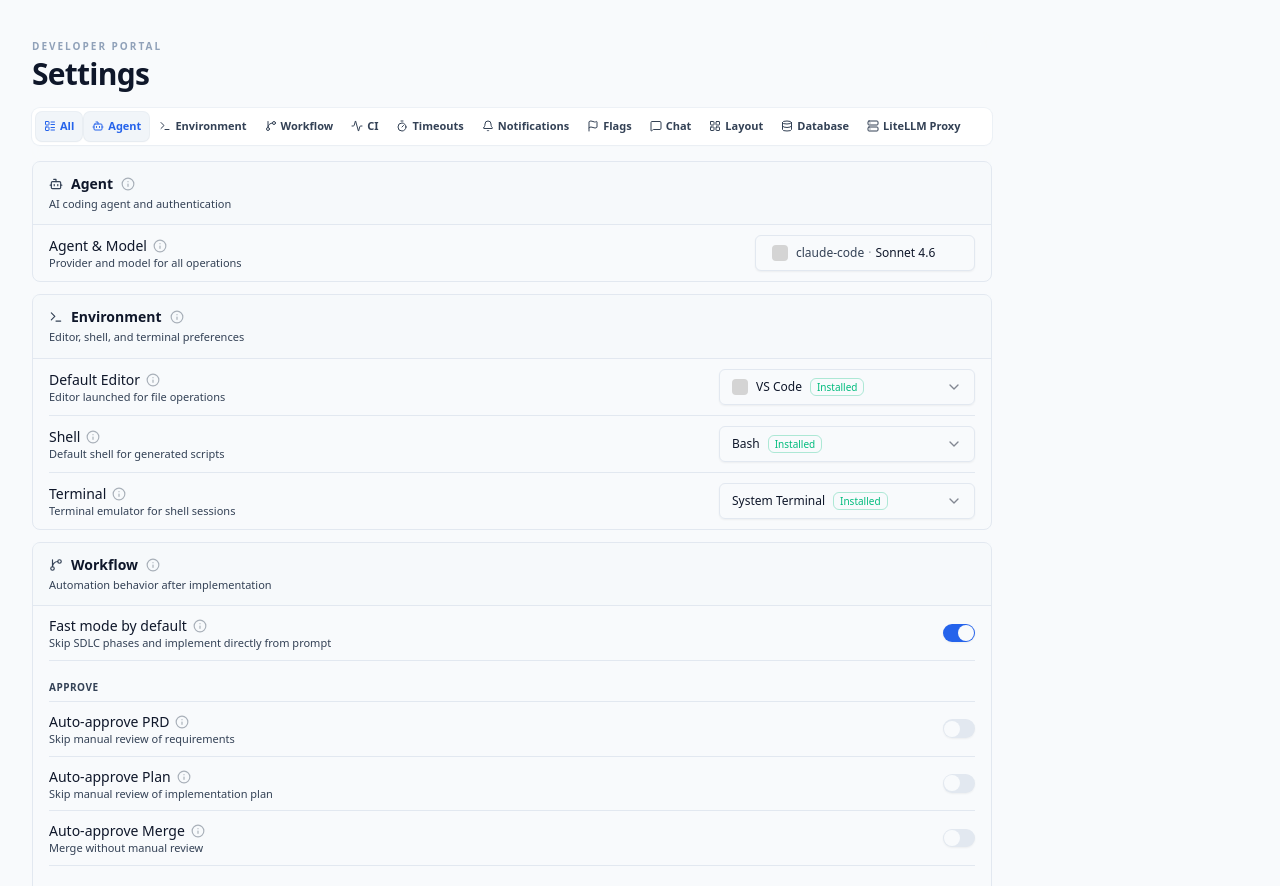
Test: SettingsPageClient › returns to showing all sections when "All" tab is clicked
// Switch to Agent tab
Click the button "Agent" at [117, 126], box [84,112,149,140]
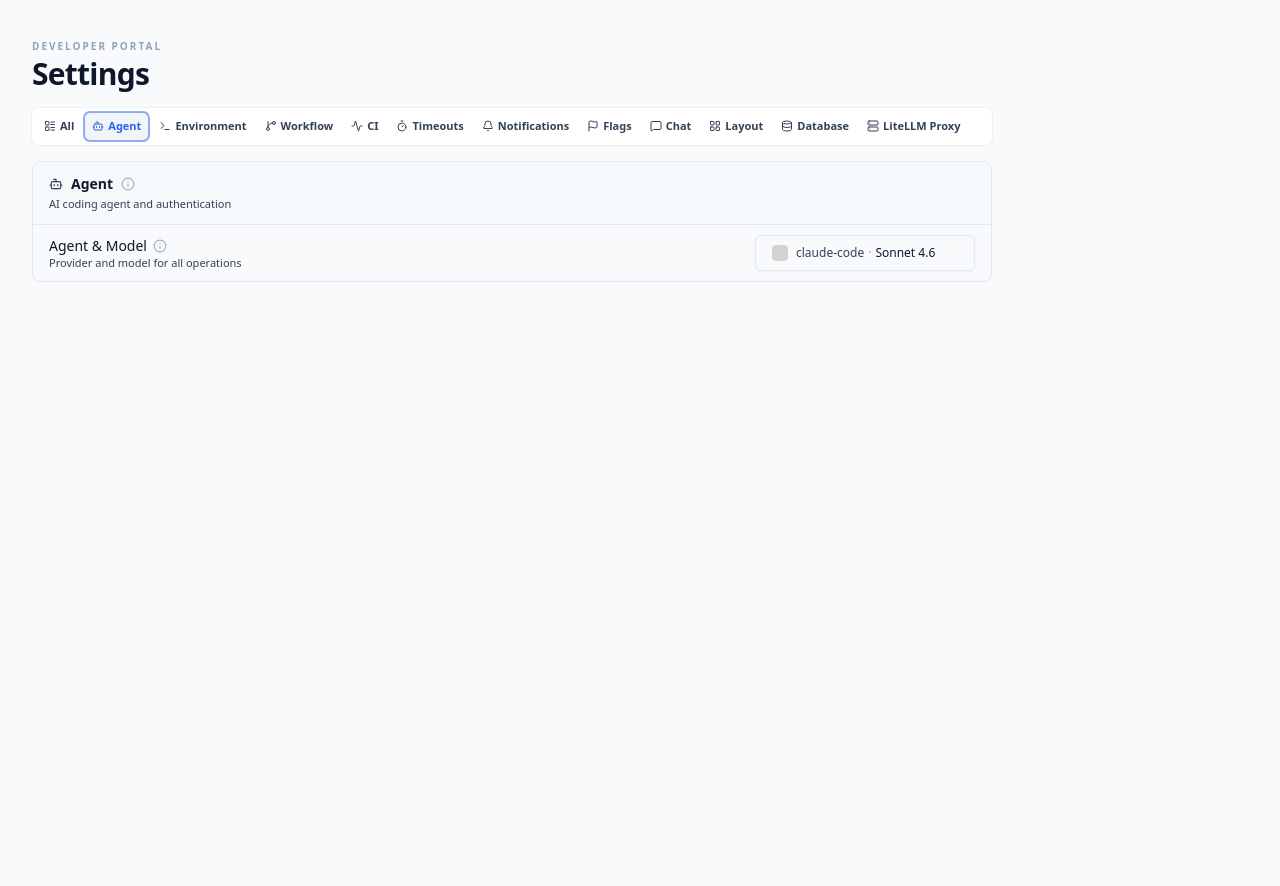
// Switch back to All tab
Click the button "All" at [59, 126], box [36,112,82,140]
(page scrolled)
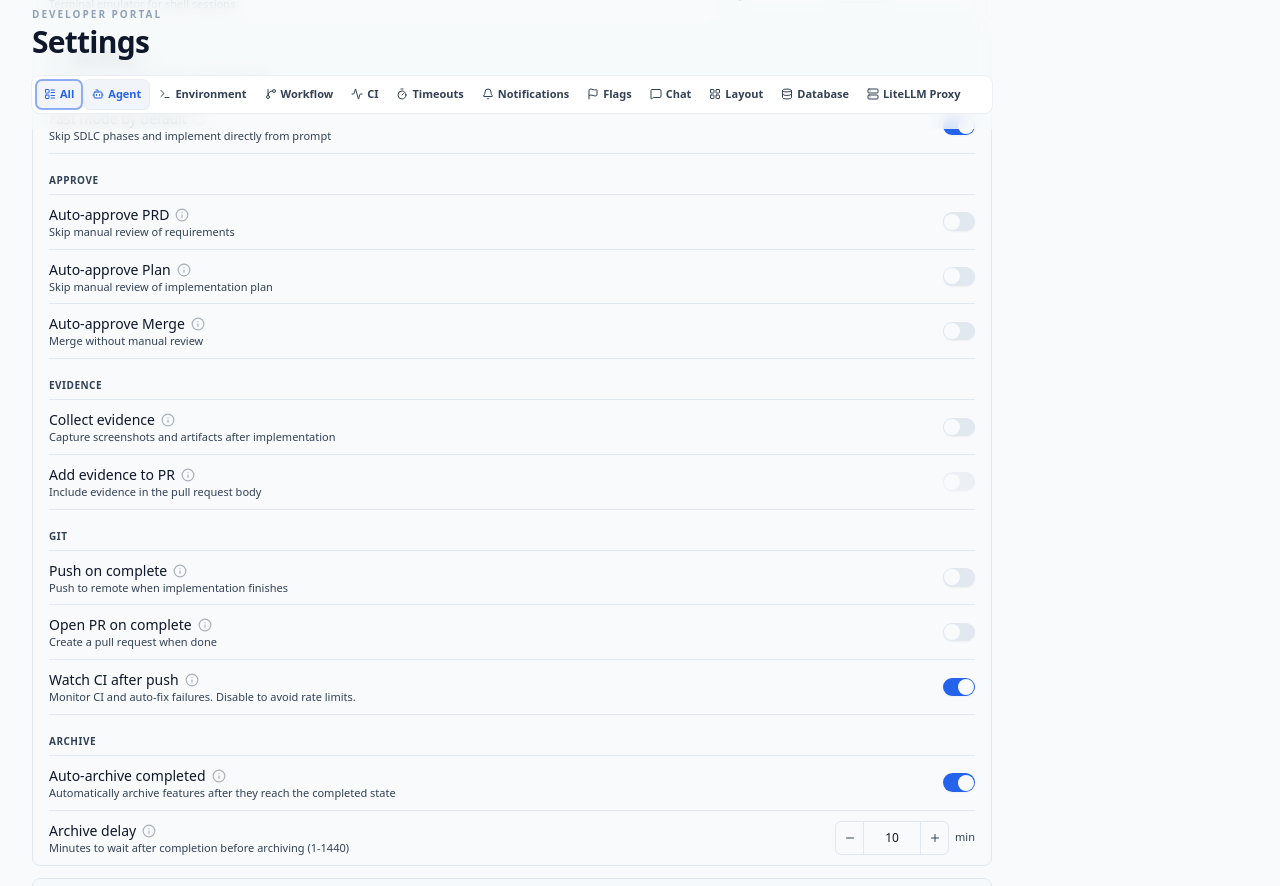
Check: the element with test id "workflow-settings-section" is shown
